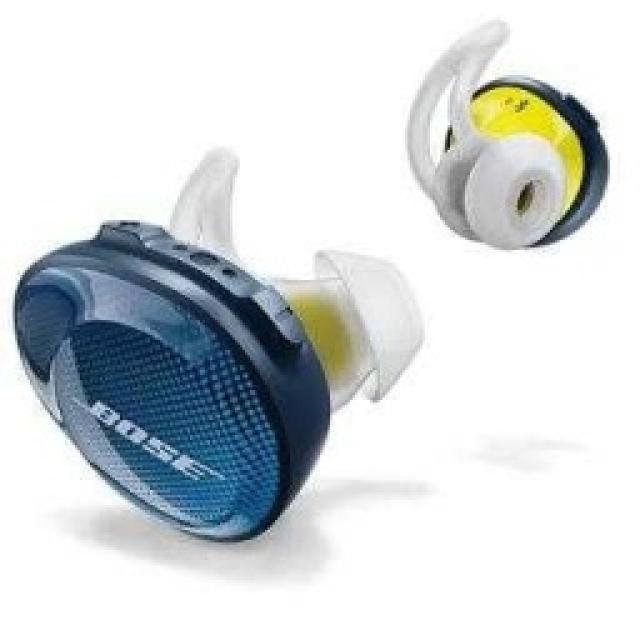headphones: (10, 142, 422, 542), (402, 15, 610, 250)
